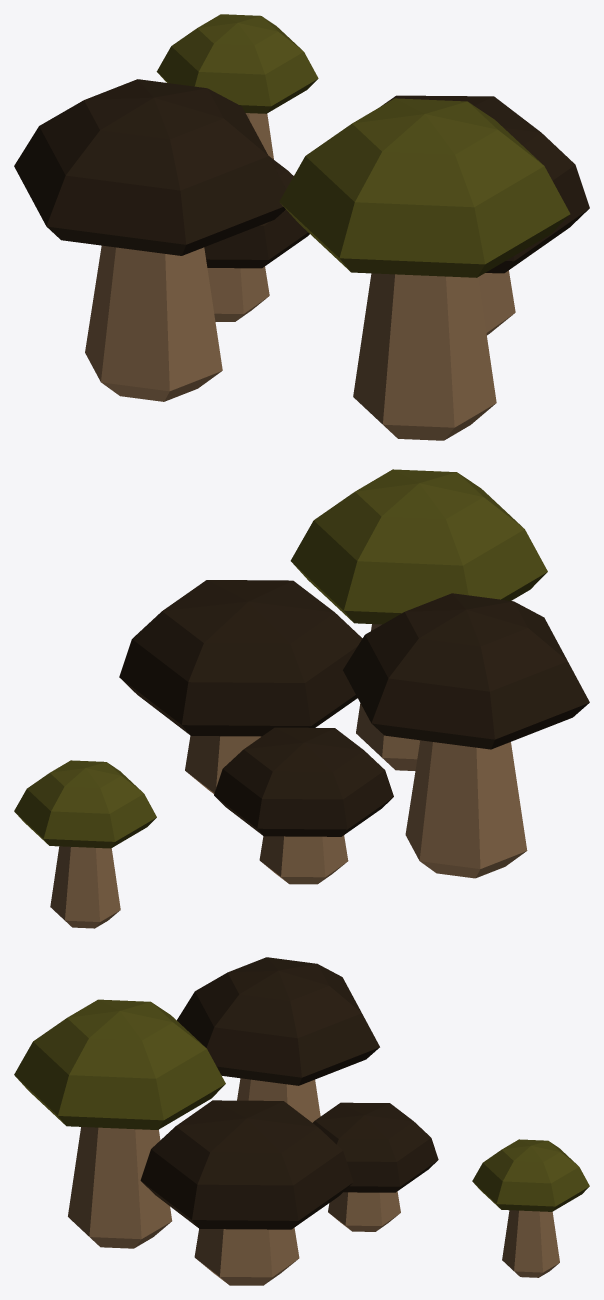
Rendered from mushroom4.FBX.
3 renders of one model, top to bottom at view 1: azimuth 30°, elevation 25°; view 2: azimuth 150°, elevation 25°; view 3: azimuth 270°, elevation 25°, orthographic. The views are drawn at different scales.
Visible parts, largest first — view 1: mushroom4; view 2: mushroom4; view 3: mushroom4.
Boxes of the visible parts, left/top/right/bottom form: mushroom4: left=14, top=14, right=589, bottom=440; mushroom4: left=14, top=469, right=589, bottom=928; mushroom4: left=14, top=957, right=589, bottom=1285.
Bounding box in the file's own units: 22.34 × 30.47 × 13.19.
